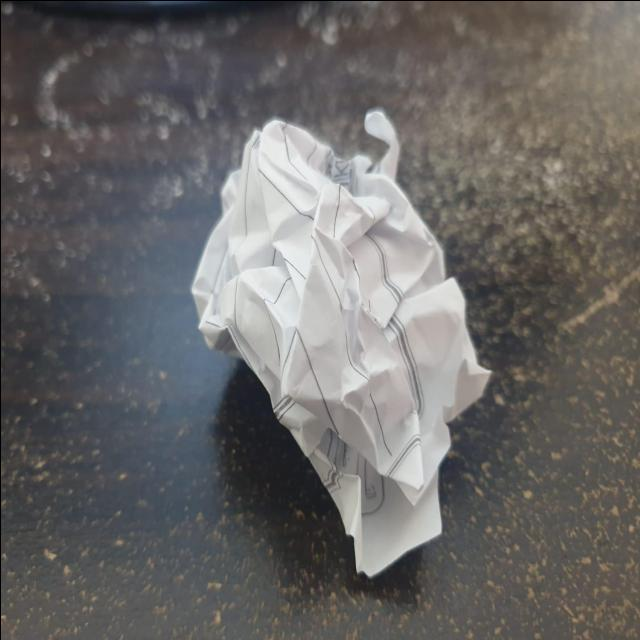kertas: (192, 99, 498, 575)
